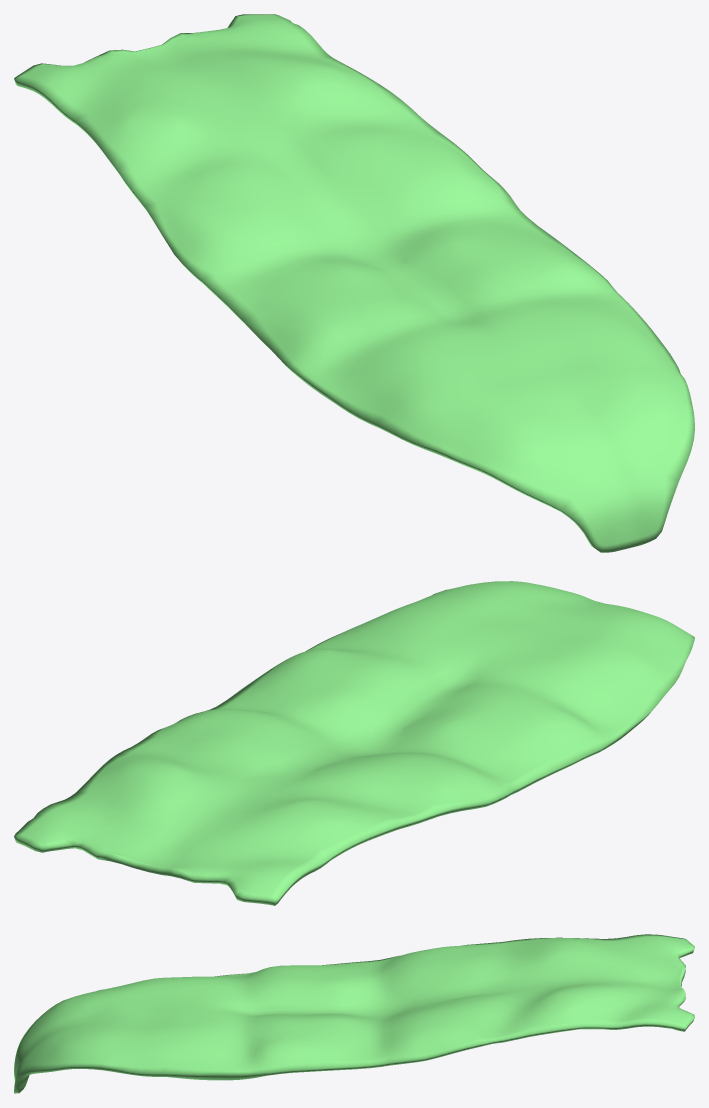
Rendered from Rectus_Abdominus_Muscle.fbx.
The picture shows the model from 3 angles, top to bottom: view 1: azimuth 30°, elevation 25°; view 2: azimuth 150°, elevation 25°; view 3: azimuth 270°, elevation 25°; orthographic projection. The views are drawn at different scales.
Parts seen in each view (by area): view 1: Rectus_Abdominus_Muscle; view 2: Rectus_Abdominus_Muscle; view 3: Rectus_Abdominus_Muscle.
Part boxes in pixels (x1,y1,x2,y2): Rectus_Abdominus_Muscle: (14,14,694,552); Rectus_Abdominus_Muscle: (14,581,694,905); Rectus_Abdominus_Muscle: (14,934,694,1093).
Size of the model in its own units: 143 by 71.73 by 379.
